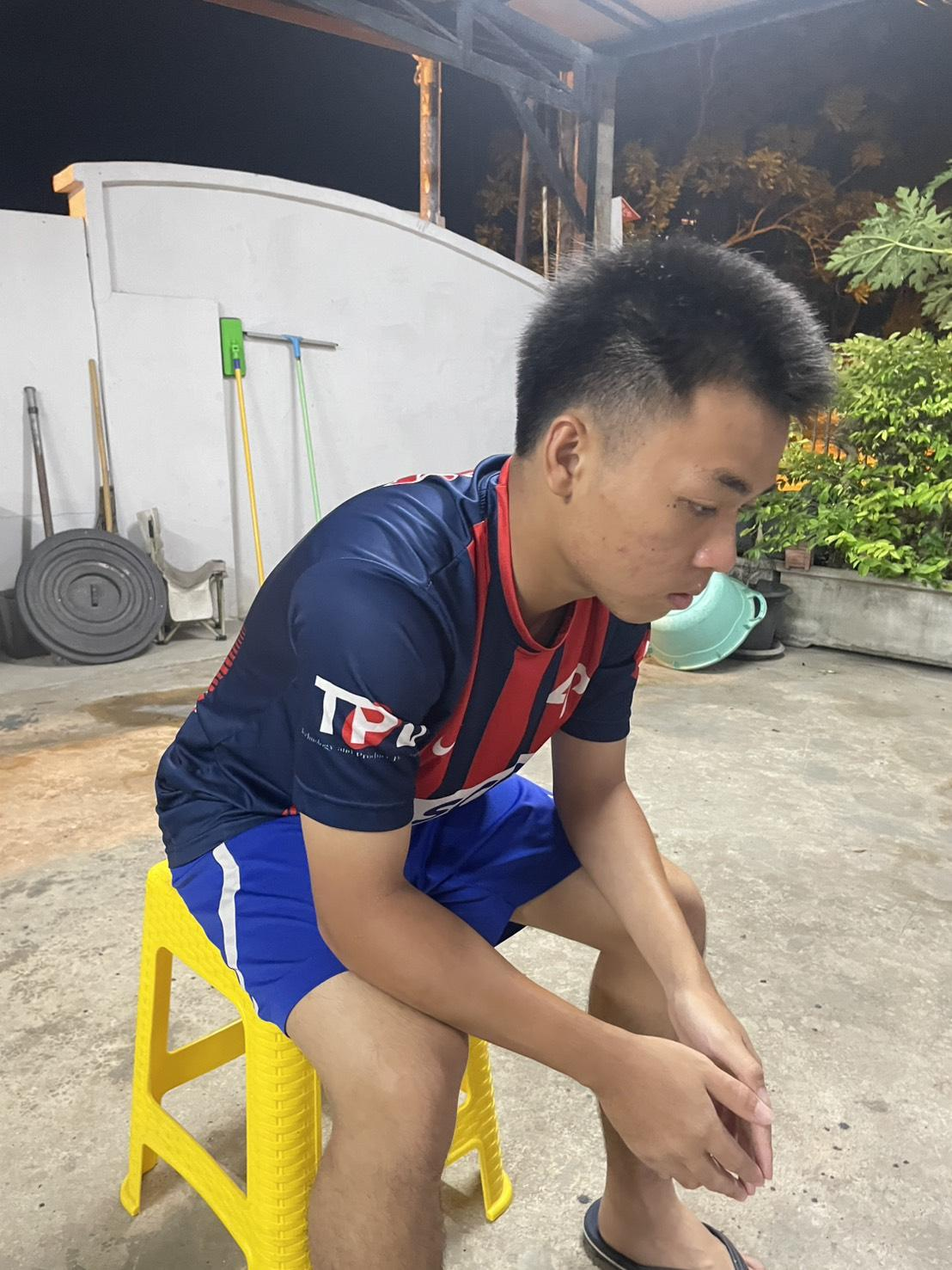BadPosture: (157, 236, 830, 943)
